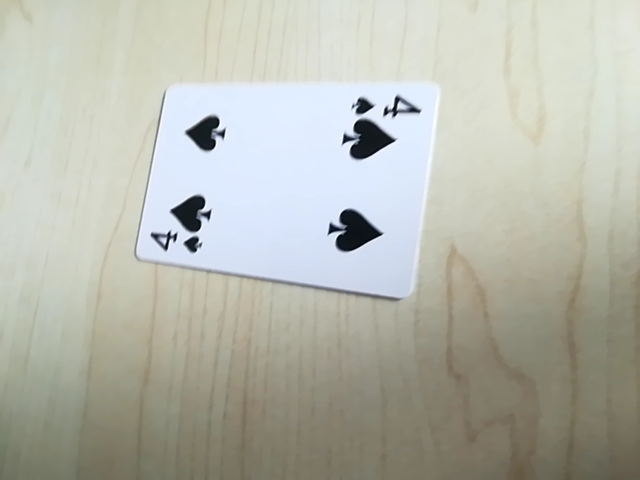ht 4: (349, 88, 423, 120), (140, 226, 208, 260)
